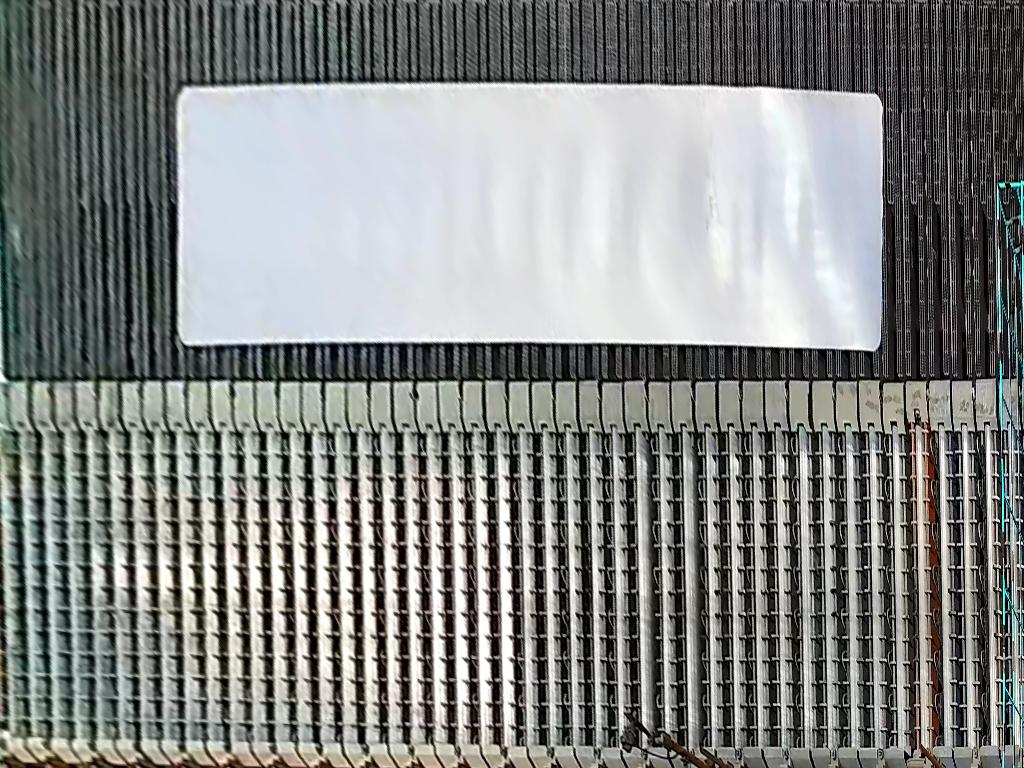steel: (172, 82, 883, 351)
